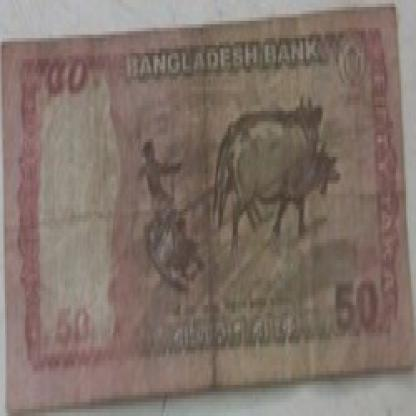Fifty taka: (35, 45, 98, 114)
